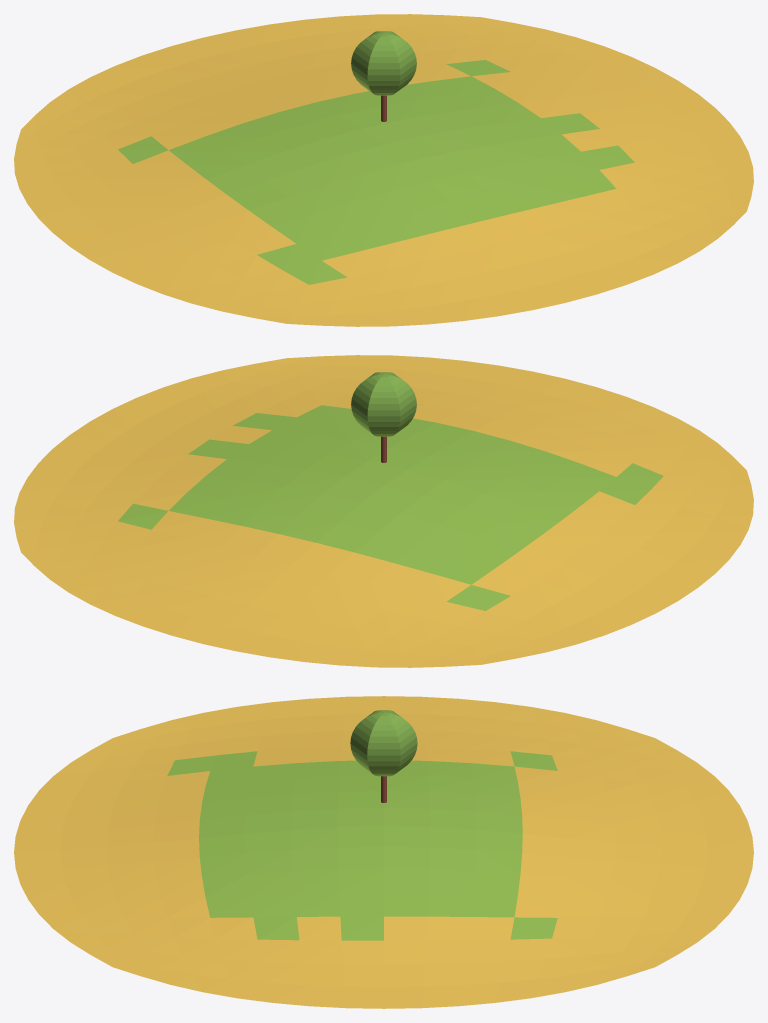
File: map_01.glb
3 renders of one model, top to bottom at view 1: azimuth 30°, elevation 25°; view 2: azimuth 150°, elevation 25°; view 3: azimuth 270°, elevation 25°, orthographic. The views are drawn at different scales.
Parts seen in each view (by area): view 1: Land, Tree_Top; view 2: Land, Tree_Top; view 3: Land, Tree_Top.
Part boxes in pixels (x1,y1,x2,y2): Land: (14, 14, 753, 326); Tree_Top: (351, 31, 416, 95); Land: (14, 355, 753, 667); Tree_Top: (351, 372, 416, 436); Land: (14, 696, 753, 1008); Tree_Top: (350, 710, 417, 776).
Size of what is drawn, in the model's own units: 27.31 by 5.69 by 27.31.
Materials: 1 (1 with a texture image).
